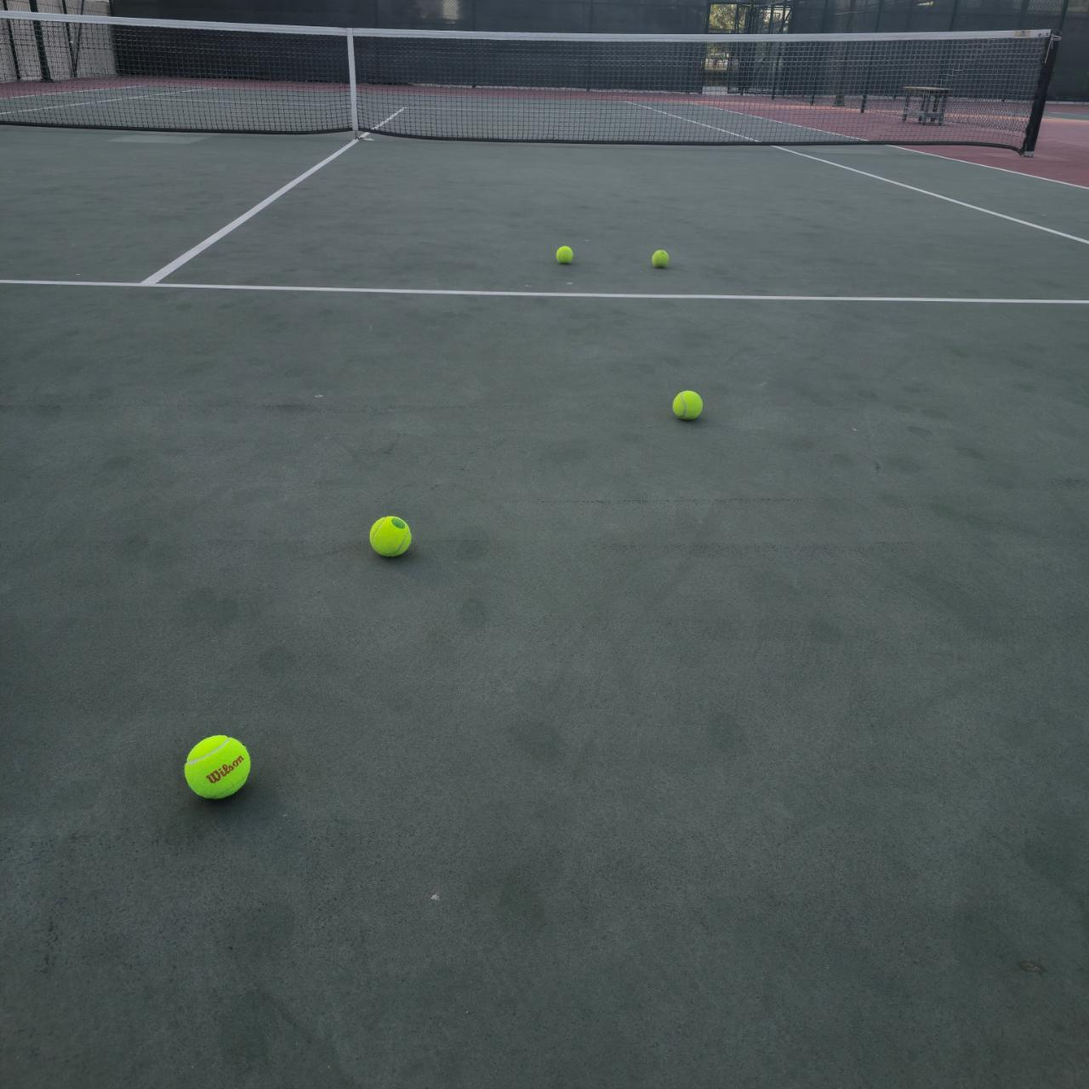tennis-ball: (182, 731, 251, 801), (368, 512, 412, 557), (670, 387, 704, 420), (650, 247, 670, 268), (554, 243, 573, 264)
